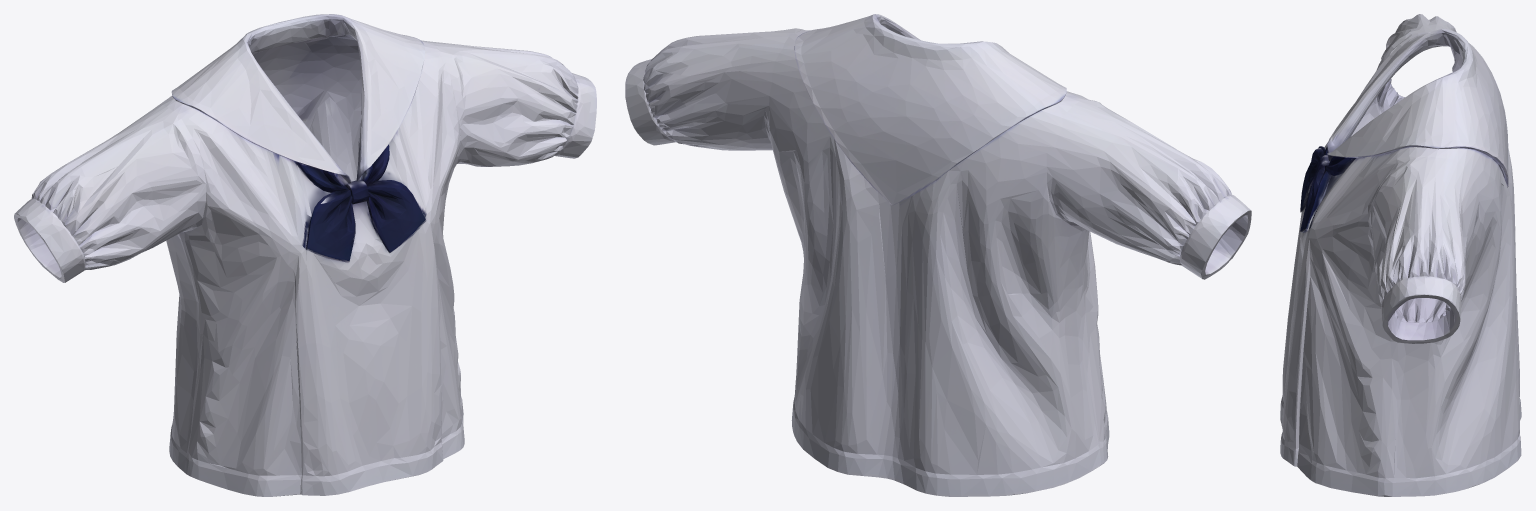
Rendered from school_blouse_v2_light.obj.
3 views of the same model, side by side, from view 1: azimuth 30°, elevation 25°; view 2: azimuth 150°, elevation 25°; view 3: azimuth 270°, elevation 25° (orthographic). The views are drawn at different scales.
Visible parts, largest first — view 1: node_0; view 2: node_0; view 3: node_0.
Part boxes in pixels (x1=…): node_0: x1=14, y1=14, x2=596, y2=496; node_0: x1=625, y1=14, x2=1251, y2=496; node_0: x1=1280, y1=14, x2=1521, y2=496.
Bounding box in the file's own units: 115 × 76.79 × 43.82.
1 material, 1 textured.
